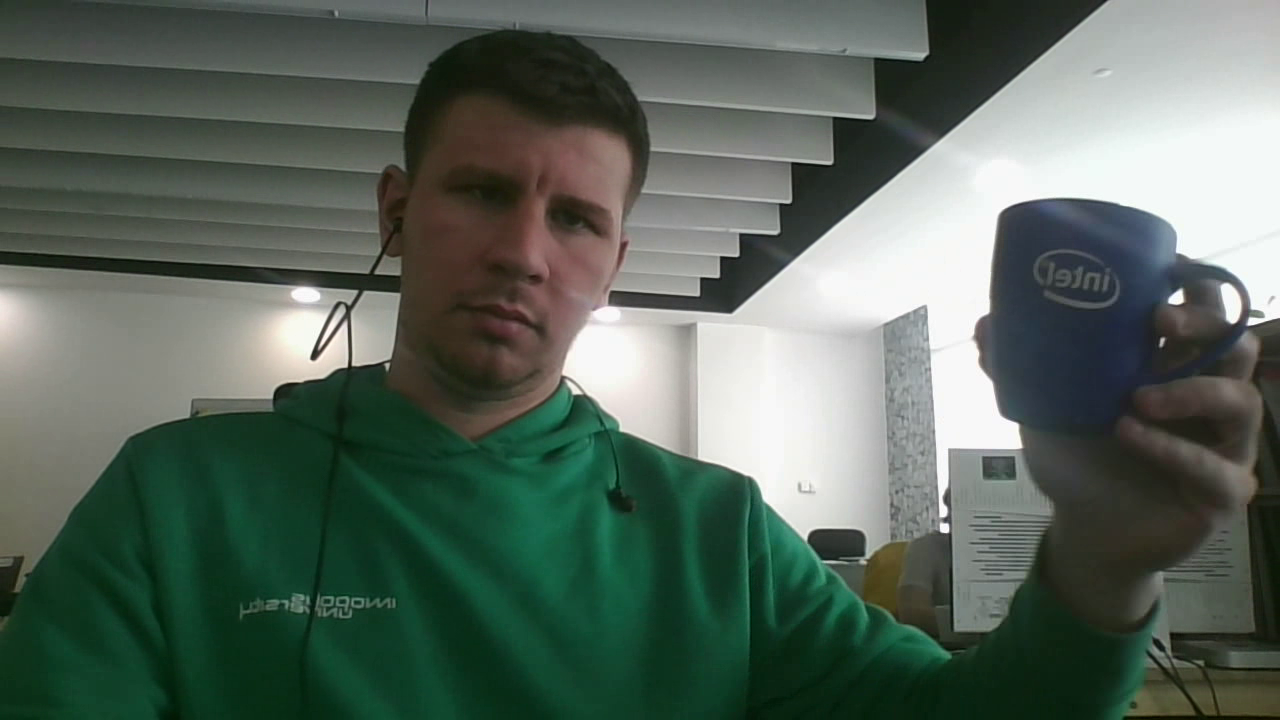cup: (987, 198, 1249, 436)
